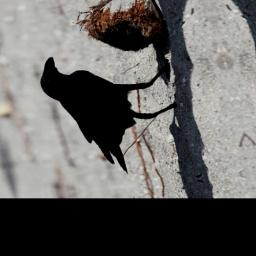Crow: (33, 45, 200, 182)
